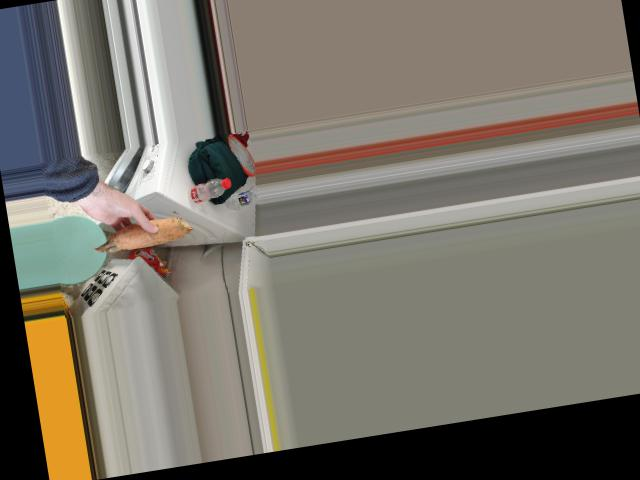sweet_potato: (97, 210, 187, 255)
